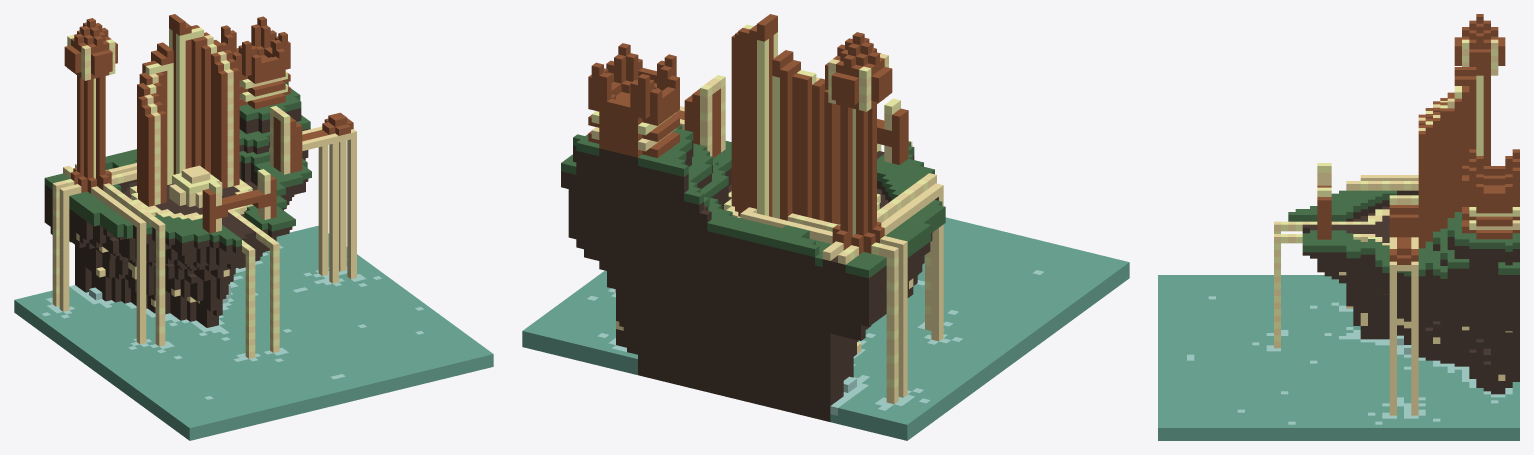
The model's file is Scifi City.obj.
3 views of the same model, side by side, from view 1: azimuth 30°, elevation 25°; view 2: azimuth 150°, elevation 25°; view 3: azimuth 270°, elevation 25° (orthographic). The views are drawn at different scales.
Bounding box in the file's own units: 50 × 46 × 50.
1 material, 1 textured.
